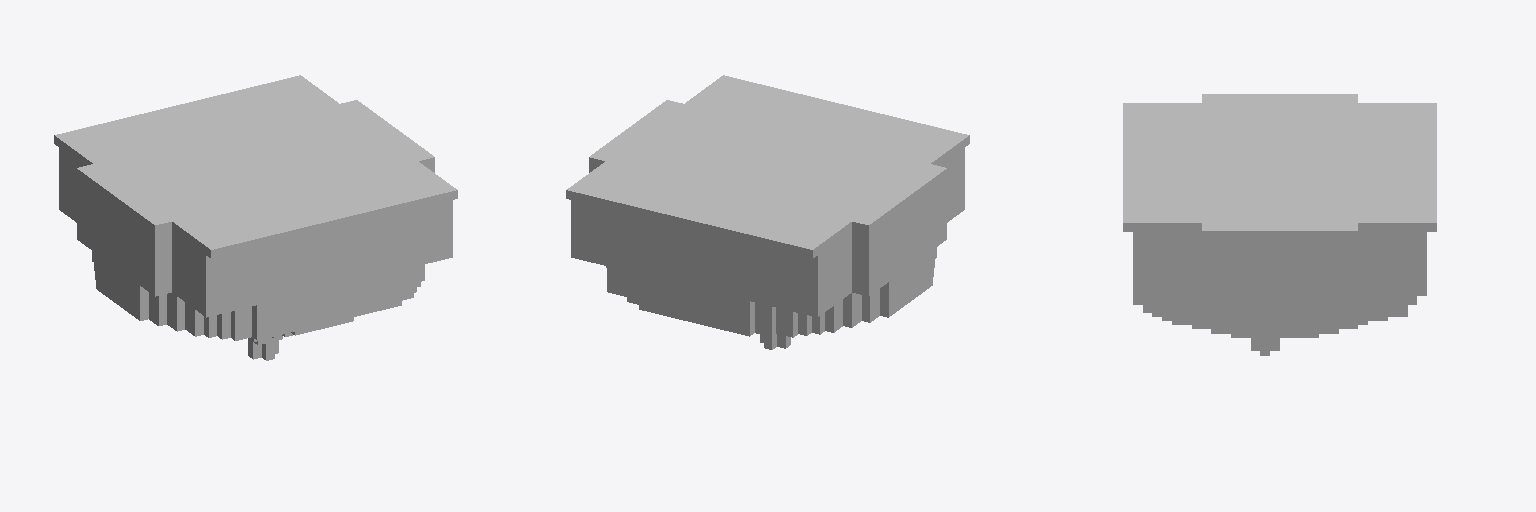
Rendered from titanic_iceberg.obj.
The picture shows the model from 3 angles: view 1: azimuth 30°, elevation 25°; view 2: azimuth 150°, elevation 25°; view 3: azimuth 270°, elevation 25°; orthographic projection.
Parts seen in each view (by area): view 1: titanic_iceberg; view 2: titanic_iceberg; view 3: titanic_iceberg.
Boxes of the visible parts, <box> form: titanic_iceberg: <box>54,75,457,360</box>; titanic_iceberg: <box>566,75,969,349</box>; titanic_iceberg: <box>1123,94,1436,355</box>.
Bounding box in the file's own units: 33 × 21 × 32.